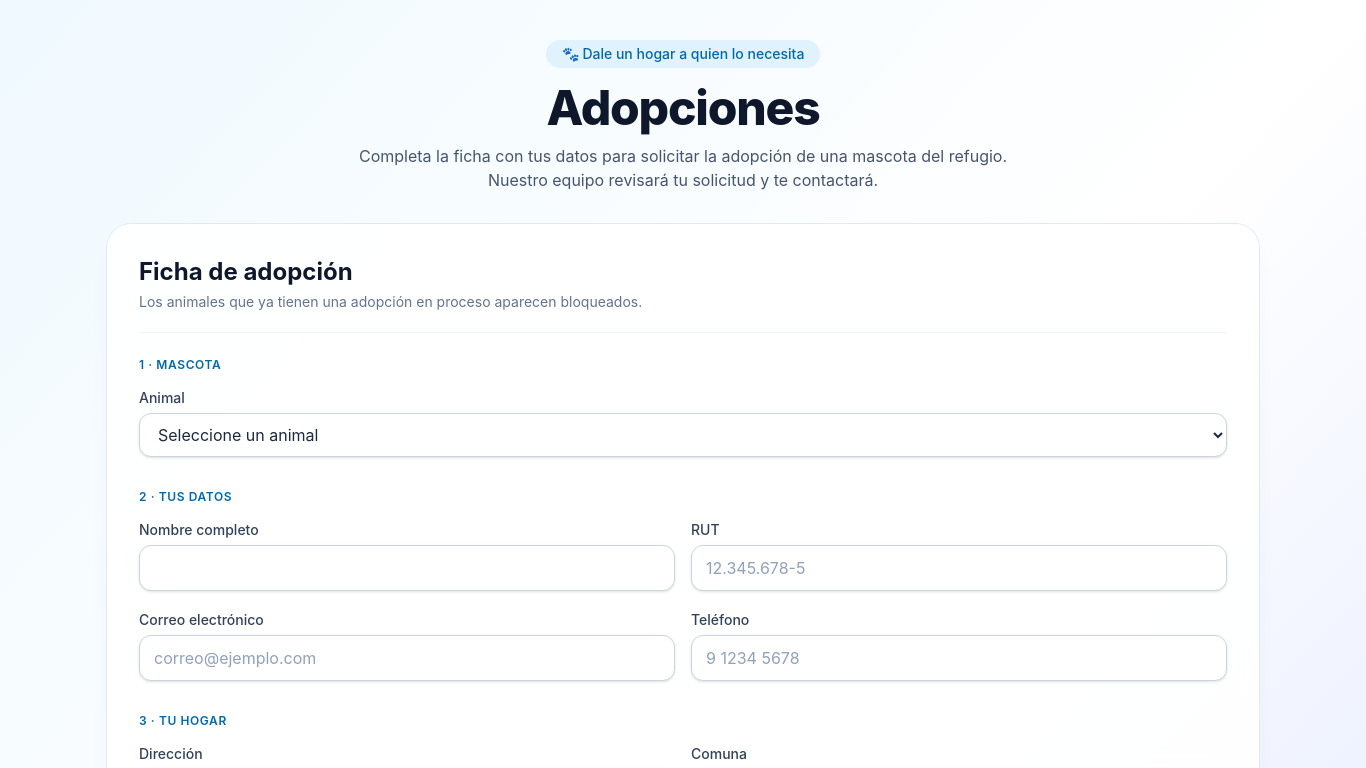
Test: Formulario de adopción (vista del usuario) › pone los puntos y el guion del RUT mientras se escribe
In the field labelled "RUT": (959, 568) [691,545,1227,591], type "123456785"
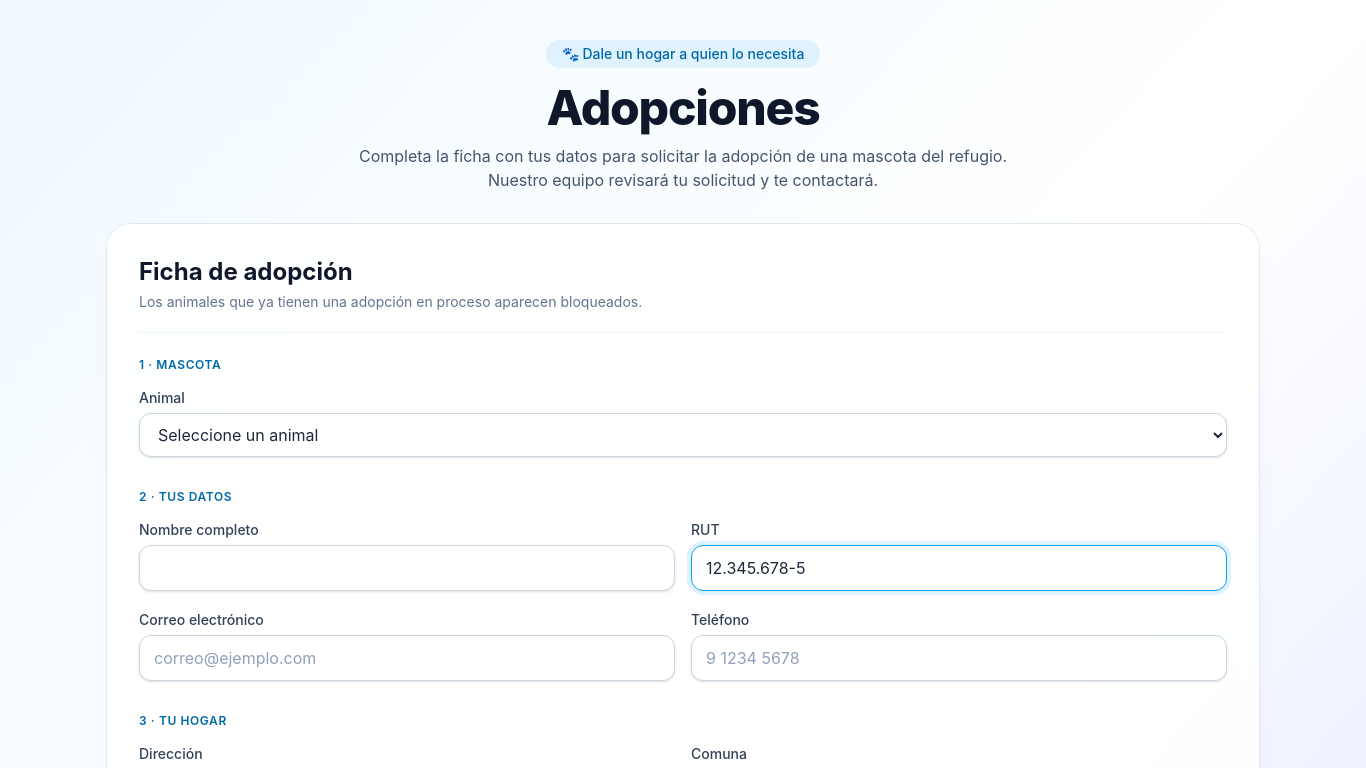
Expected: the field labelled "RUT" holds "12.345.678-5", [691,545,1227,591]
